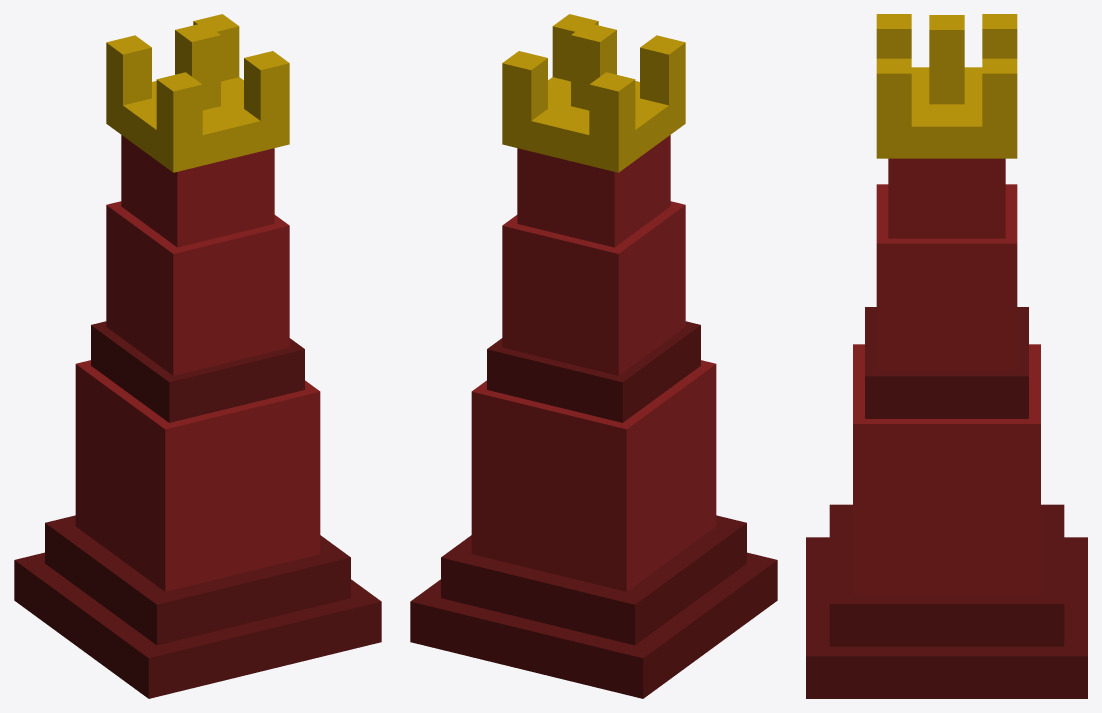
The model's file is queen.gltf.
3 views of the same model, side by side, from view 1: azimuth 30°, elevation 25°; view 2: azimuth 150°, elevation 25°; view 3: azimuth 270°, elevation 25° (orthographic). The views are drawn at different scales.
Parts seen in each view (by area): view 1: gown, bust, base, foot, head, waist, crown_band, spike_c, spike_3, spike_4, spike_1, spike_2; view 2: gown, bust, base, foot, head, waist, crown_band, spike_c, spike_1, spike_2, spike_3, spike_4; view 3: gown, bust, base, foot, head, waist, crown_band, spike_c, spike_2, spike_4, spike_1, spike_3.
Boxes of the visible parts, x1,y1,x2,y2 form: gown: [75, 360, 320, 591]; bust: [106, 201, 289, 375]; base: [14, 552, 381, 698]; foot: [45, 515, 350, 645]; head: [121, 135, 274, 247]; waist: [91, 321, 304, 422]; crown_band: [106, 77, 289, 172]; spike_c: [175, 23, 220, 110]; spike_3: [156, 72, 202, 142]; spike_4: [244, 51, 289, 120]; spike_1: [106, 35, 151, 105]; spike_2: [193, 14, 239, 81]; gown: [471, 360, 716, 591]; bust: [502, 201, 685, 375]; base: [410, 552, 777, 698]; foot: [441, 515, 746, 645]; head: [517, 135, 670, 247]; waist: [487, 321, 700, 422]; crown_band: [502, 77, 685, 172]; spike_c: [571, 23, 616, 110]; spike_1: [589, 72, 635, 142]; spike_2: [502, 51, 547, 120]; spike_3: [640, 35, 685, 105]; spike_4: [552, 14, 598, 81]; gown: [853, 344, 1040, 593]; bust: [876, 184, 1017, 371]; base: [806, 537, 1087, 698]; foot: [829, 504, 1064, 646]; head: [888, 158, 1005, 238]; waist: [865, 307, 1028, 418]; crown_band: [876, 67, 1017, 158]; spike_c: [929, 15, 964, 104]; spike_2: [982, 58, 1017, 126]; spike_4: [876, 58, 911, 126]; spike_1: [982, 14, 1017, 58]; spike_3: [876, 14, 911, 58].
Bounding box in the file's own units: 0.75 × 1.81 × 0.75.
Materials: 3 (3 with a texture image).
